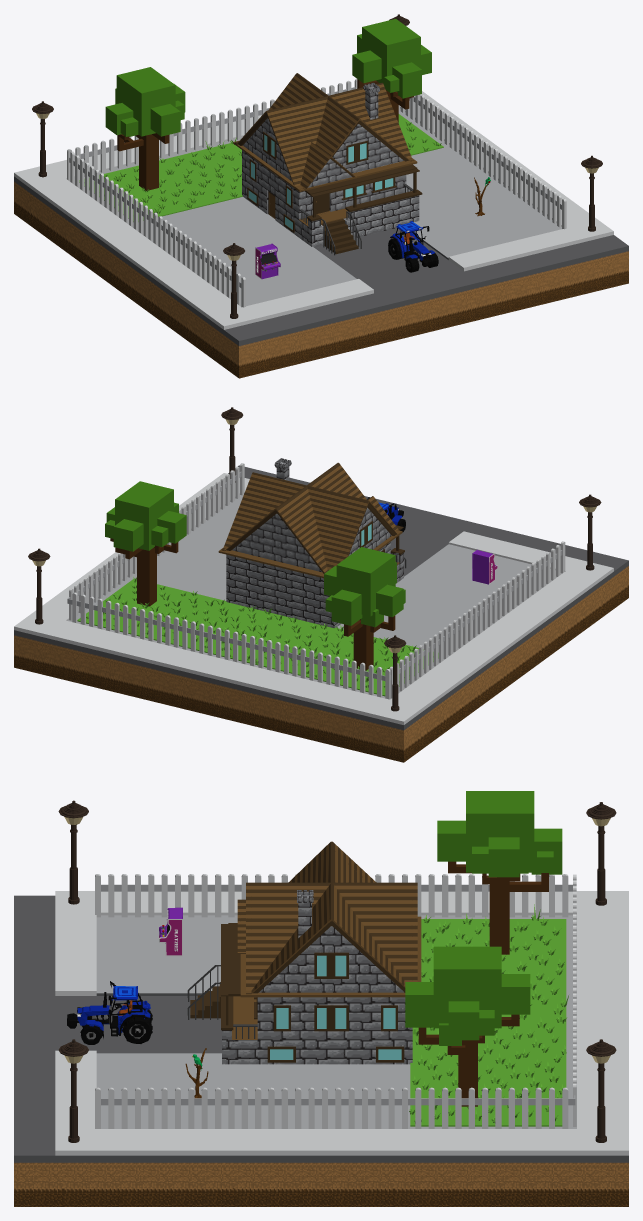
3 views of the same model, one above another, from view 1: azimuth 30°, elevation 25°; view 2: azimuth 150°, elevation 25°; view 3: azimuth 270°, elevation 25° (orthographic). The views are drawn at different scales.
Visible parts, largest first — view 1: Cube.004, Cube.586, VEHICLES_TRACTOR, OBJRANDOM_ARCADE; view 2: Cube.004, Cube.586, OBJRANDOM_ARCADE; view 3: Cube.004, Cube.586, VEHICLES_TRACTOR, OBJRANDOM_ARCADE.
Boxes of the visible parts, <box> form: Cube.004: <box>14,14,628,378</box>; Cube.586: <box>233,73,422,255</box>; VEHICLES_TRACTOR: <box>388,221,438,272</box>; OBJRANDOM_ARCADE: <box>255,243,280,279</box>; Cube.004: <box>14,407,628,762</box>; Cube.586: <box>218,458,406,627</box>; OBJRANDOM_ARCADE: <box>472,549,497,584</box>; Cube.004: <box>14,791,628,1206</box>; Cube.586: <box>187,841,421,1064</box>; VEHICLES_TRACTOR: <box>67,981,152,1044</box>; OBJRANDOM_ARCADE: <box>159,907,182,956</box>.
Bounding box in the file's own units: 4000 × 1618 × 4000.
Materials: 36 (4 with a texture image).
